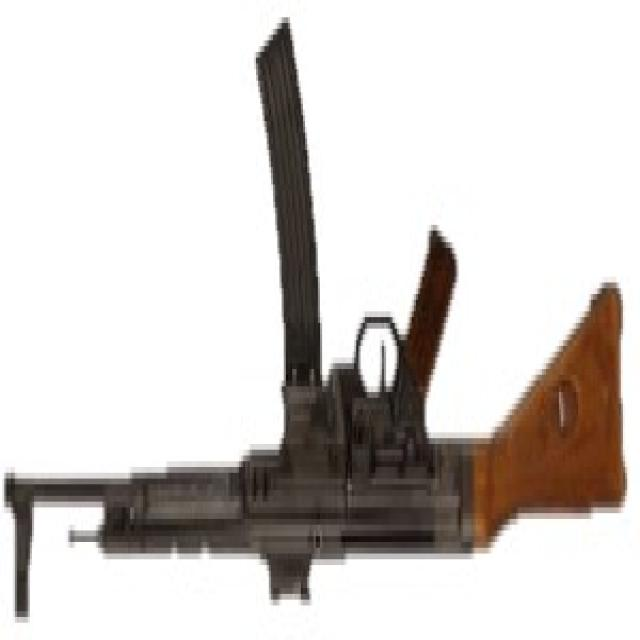rifle: (5, 19, 636, 634)
